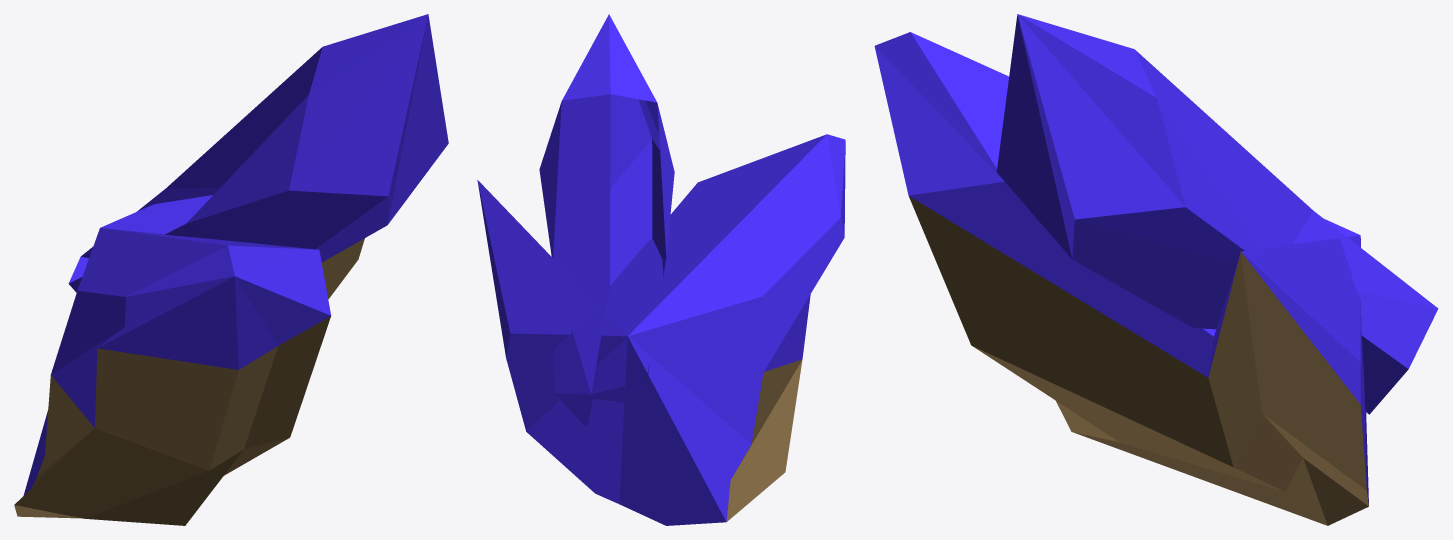
File: cristal_broken5.fbx
3 renders of one model, left to right at view 1: azimuth 30°, elevation 25°; view 2: azimuth 150°, elevation 25°; view 3: azimuth 270°, elevation 25°, orthographic. The views are drawn at different scales.
Parts seen in each view (by area): view 1: Object031; view 2: Object031; view 3: Object031.
Boxes of the visible parts, x1,y1,x2,y2 form: Object031: (14,14,448,525); Object031: (477,14,845,525); Object031: (874,14,1438,525).
Size of the model in its own units: 9.3 by 11.96 by 9.89.
